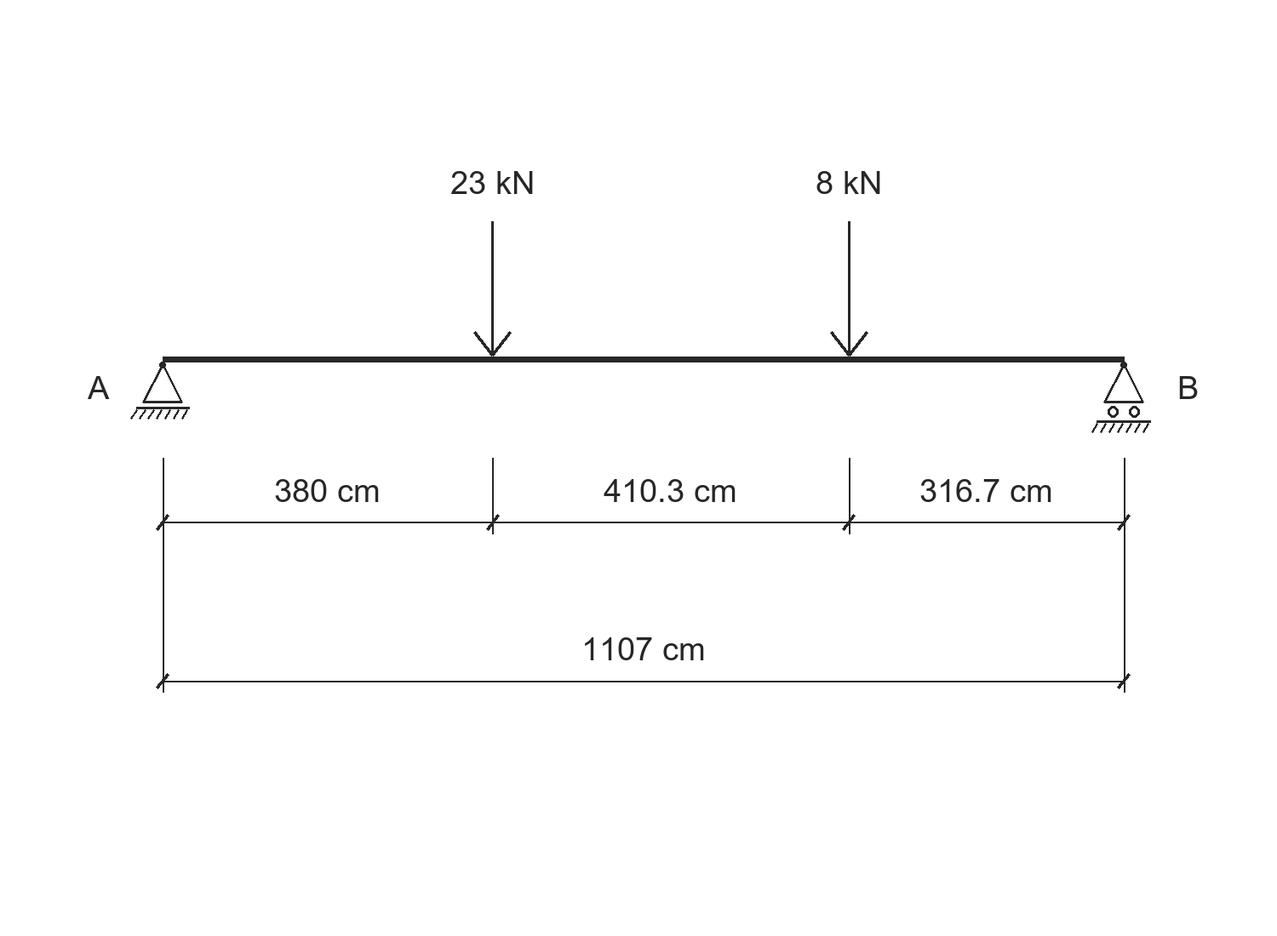pin_support: (130, 362, 190, 419)
point_load: (473, 221, 512, 357), (830, 221, 868, 357)
roller_support: (1091, 362, 1151, 433)
